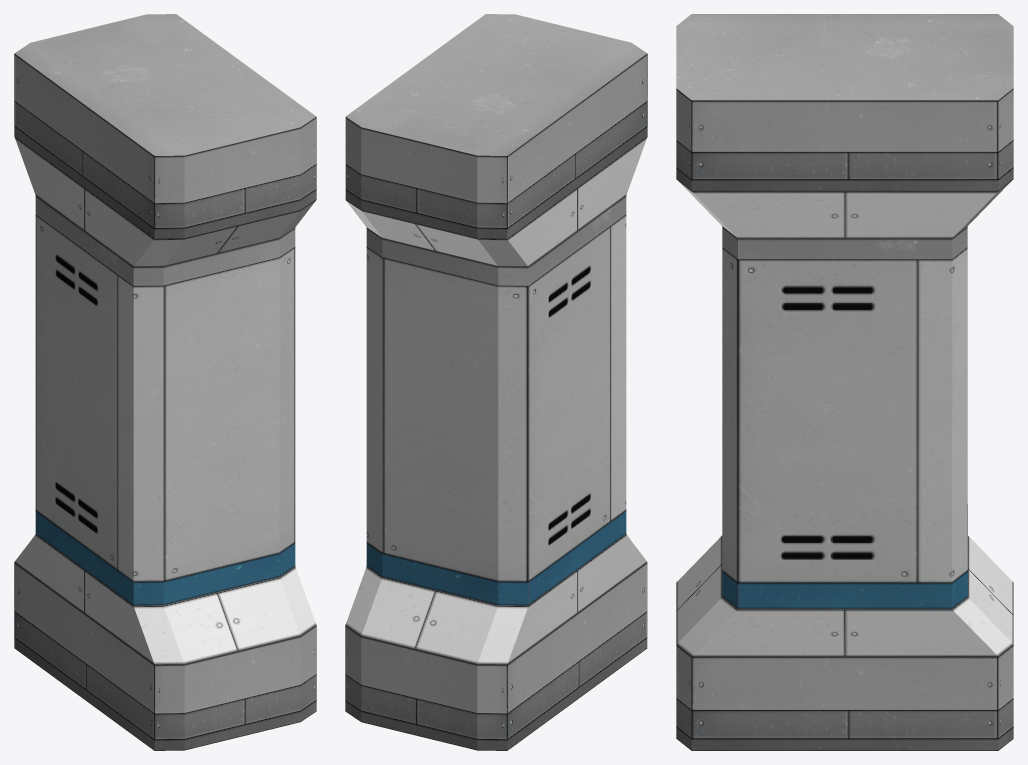
The model's file is Column_03.FBX.
The picture shows the model from 3 angles, left to right: view 1: azimuth 30°, elevation 25°; view 2: azimuth 150°, elevation 25°; view 3: azimuth 270°, elevation 25°; orthographic projection. The views are drawn at different scales.
Visible parts, largest first — view 1: Column_03; view 2: Column_03; view 3: Column_03.
Boxes of the visible parts, <box> form: Column_03: <box>14,14,316,750</box>; Column_03: <box>345,14,647,750</box>; Column_03: <box>676,14,1013,750</box>.
Size of the model in its own units: 39.87 by 140 by 65.84.
